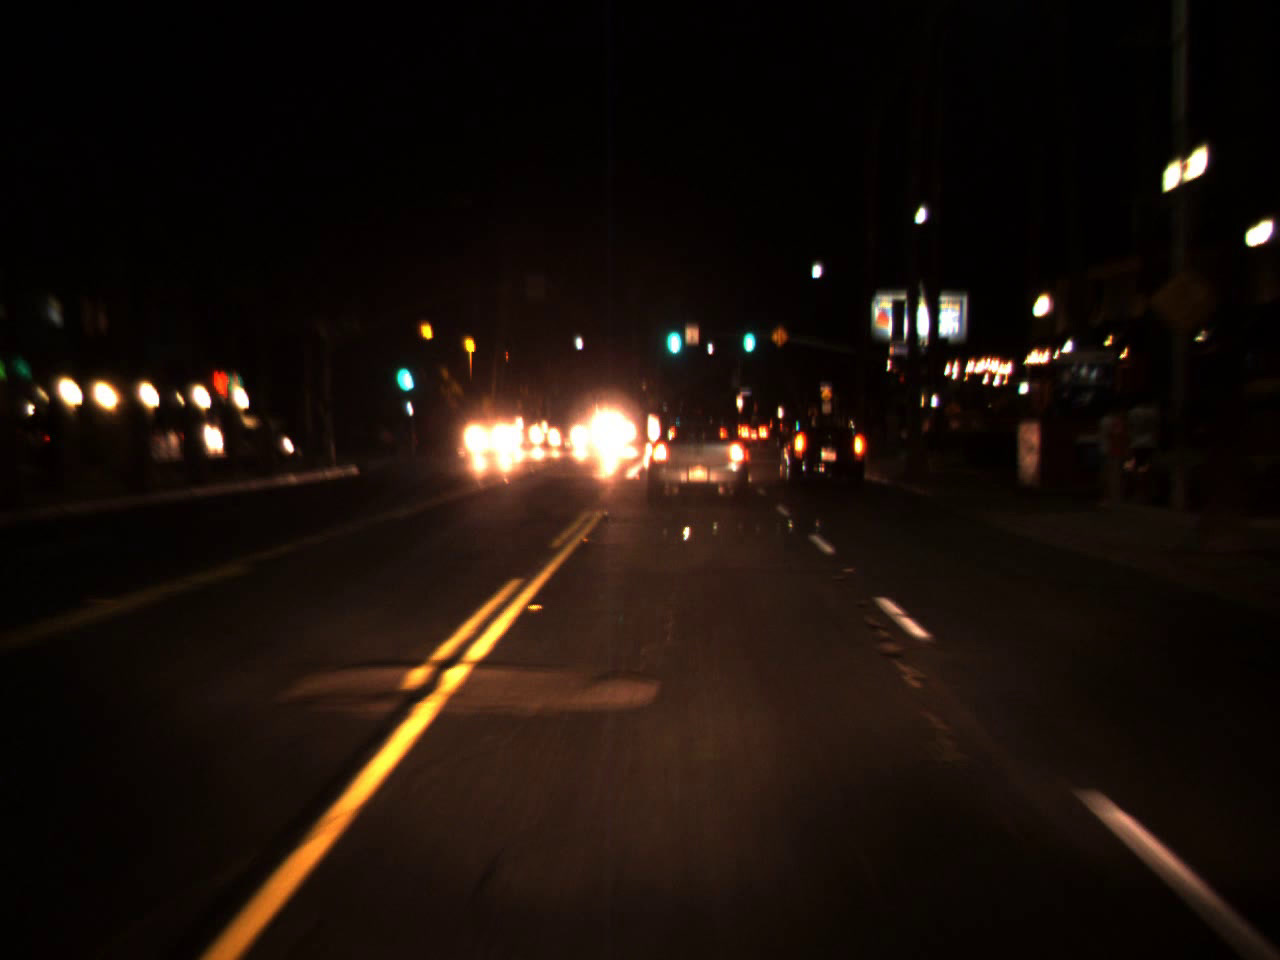go: (661, 304, 684, 361), (392, 340, 411, 400), (738, 311, 757, 356)
